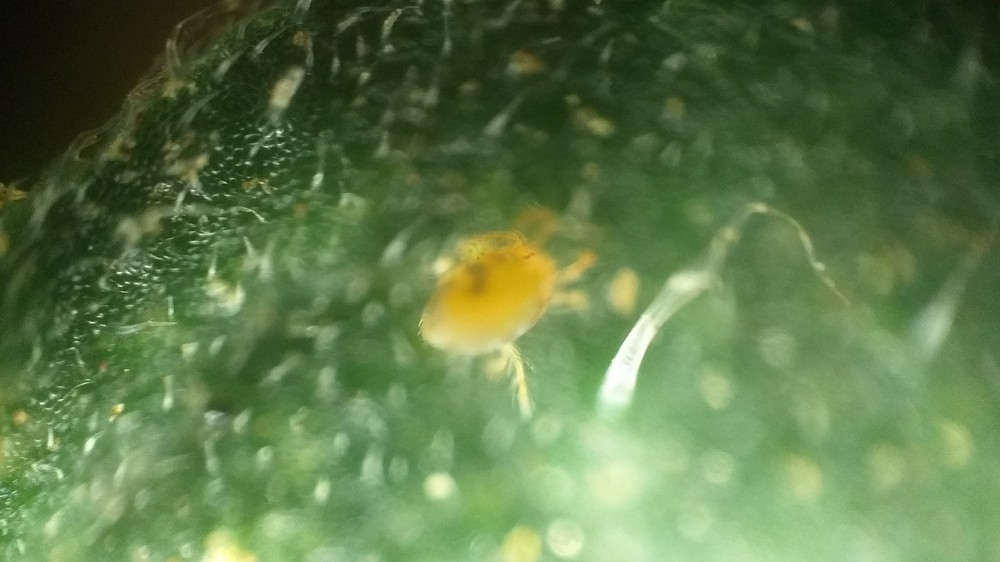Aracnido Rojo: (381, 188, 631, 438)
